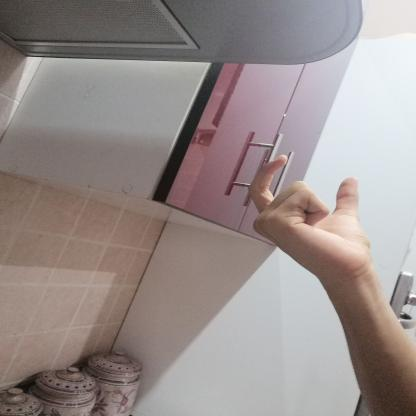NOON: (234, 147, 385, 288)
